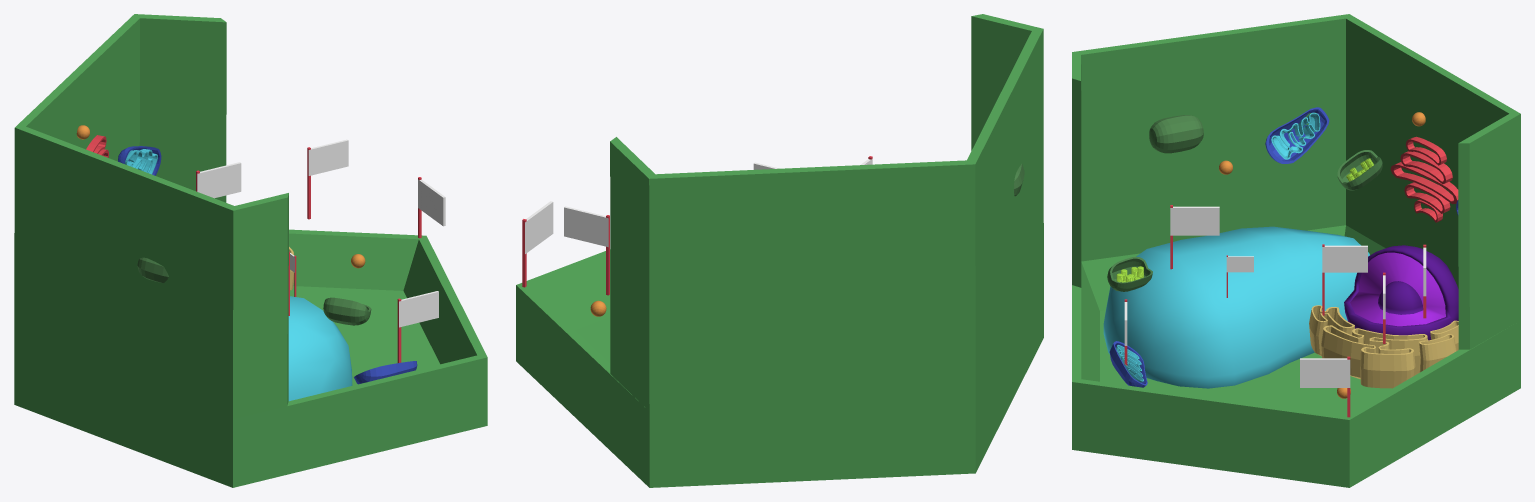
Rendered from Plant_Cell_VR.glb.
3 views of the same model, side by side, from view 1: azimuth 30°, elevation 25°; view 2: azimuth 150°, elevation 25°; view 3: azimuth 270°, elevation 25° (orthographic). The views are drawn at different scales.
Parts seen in each view (by area): view 1: CellWall, CombinedMesh (×5); view 2: CellWall, CombinedMesh (×2); view 3: CellWall, CombinedMesh (×7), Cylinder004, Sphere.013_0, Cylinder007.
Boxes of the visible parts, x1,y1,x2,y2 form: CellWall: [14, 14, 487, 487]; CombinedMesh (×5): [118, 139, 445, 401]; CellWall: [516, 14, 1043, 487]; CombinedMesh (×2): [522, 156, 872, 295]; CellWall: [1072, 14, 1520, 487]; CombinedMesh (×7): [1103, 107, 1458, 417]; Cylinder004: [1309, 305, 1458, 388]; Sphere.013_0: [1350, 252, 1445, 326]; Cylinder007: [1390, 136, 1458, 222].
Size of what is drawn, in the model's own units: 9.32 by 5.99 by 8.87.
